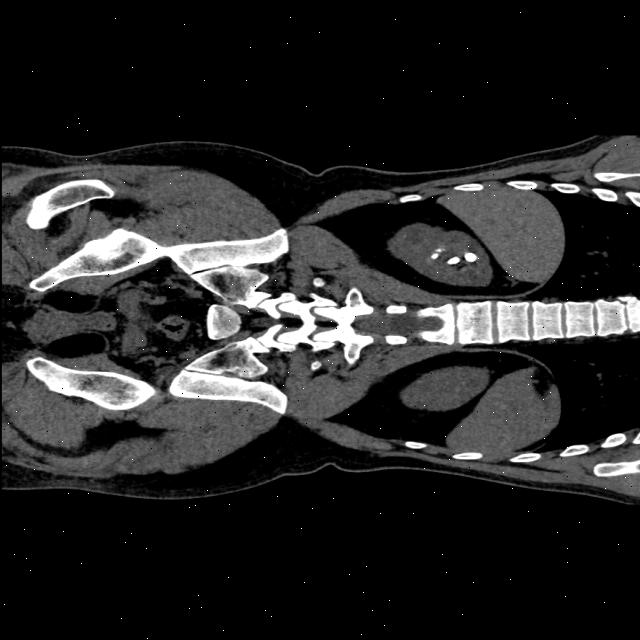kidneystone: (463, 252, 476, 262), (431, 249, 440, 260), (446, 258, 459, 264)
